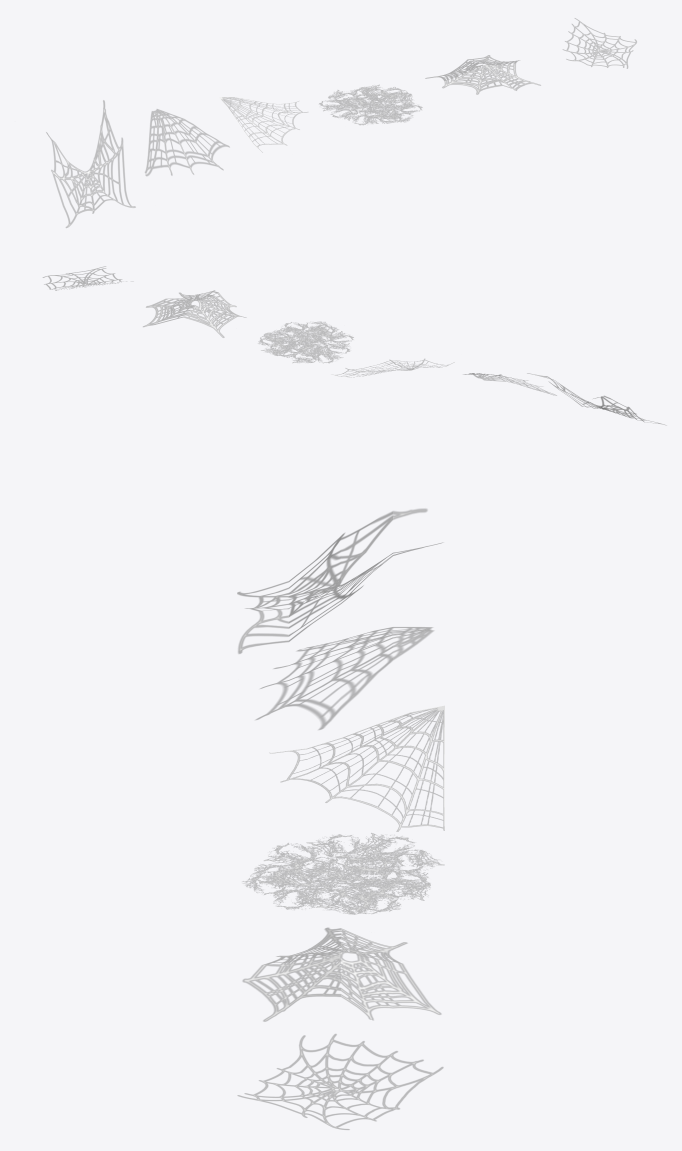
Rendered from webs.glb.
3 renders of one model, top to bottom at view 1: azimuth 30°, elevation 25°; view 2: azimuth 150°, elevation 25°; view 3: azimuth 270°, elevation 25°, orthographic. The views are drawn at different scales.
Parts seen in each view (by area): view 1: Web1, Web4, Web2, Web5, Web3, Web6; view 2: Web4, Web5, Web1, Web6, Web3, Web2; view 3: Web4, Web5, Web3, Web1, Web2, Web6.
Part boxes in pixels (x1,y1,x2,y2): Web1: (46,100,135,227); Web4: (319,84,422,124); Web2: (145,109,229,175); Web5: (425,55,540,94); Web3: (219,97,307,152); Web6: (563,18,636,68); Web4: (259,321,353,362); Web5: (143,290,246,337); Web1: (527,373,666,425); Web6: (43,266,132,290); Web3: (331,358,454,377); Web2: (463,373,556,395); Web4: (243,833,443,914); Web5: (243,928,440,1021); Web3: (270,705,444,831); Web1: (237,509,442,653); Web2: (256,627,433,729); Web6: (238,1034,443,1129).
Bounding box in the file's own units: 13.35 × 1.46 × 2.
6 materials, 6 textured.
